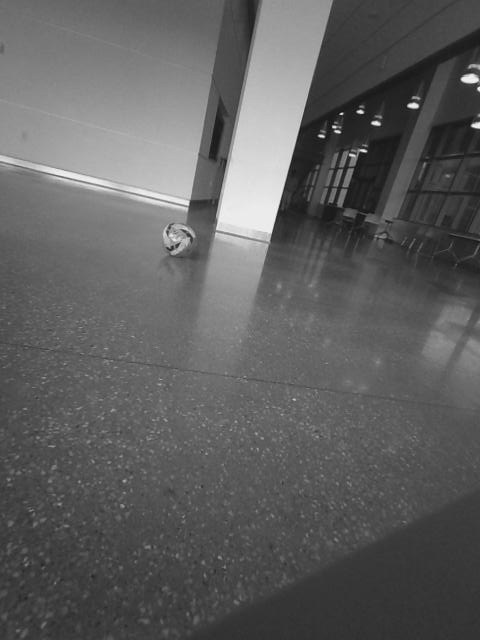ball: (159, 219, 199, 258)
